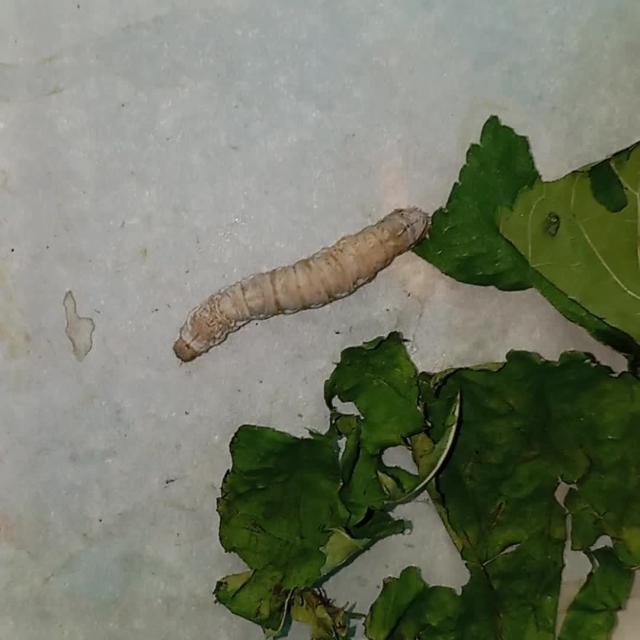Grasserie: (152, 176, 454, 398)
